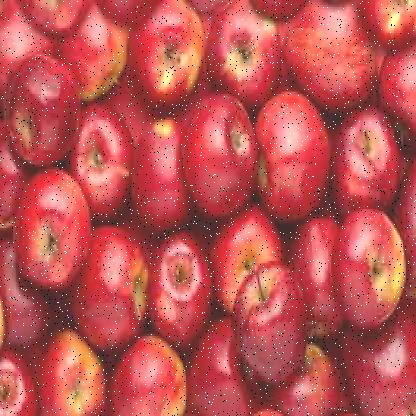apple: (331, 205, 409, 329), (258, 82, 328, 218), (74, 216, 146, 348), (188, 90, 260, 216), (284, 7, 374, 103), (14, 176, 90, 289), (208, 198, 280, 310), (70, 108, 140, 221), (229, 263, 303, 369), (128, 7, 208, 103), (287, 209, 347, 332), (36, 322, 115, 414), (8, 54, 76, 160), (142, 232, 210, 336), (331, 110, 397, 214), (134, 115, 192, 230), (212, 4, 278, 94), (115, 334, 188, 414)
